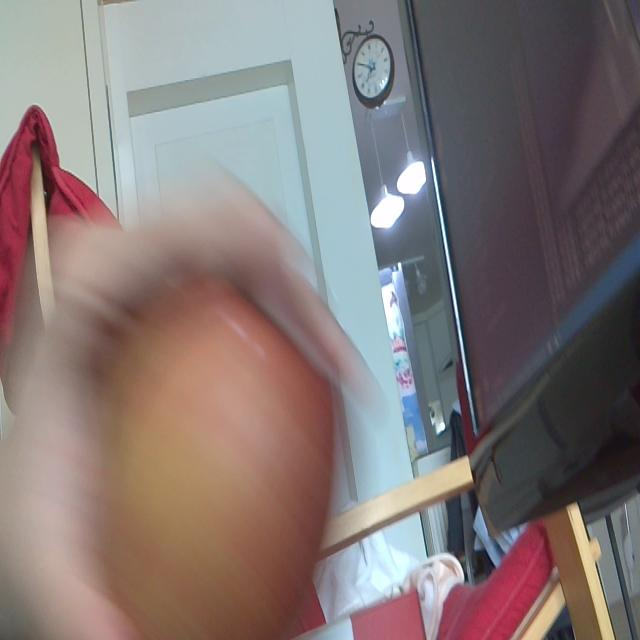apple: (88, 271, 339, 640)
